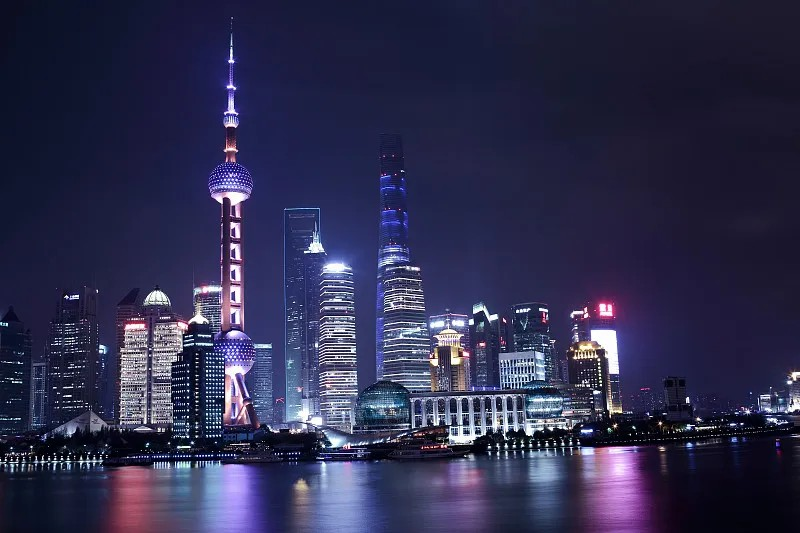Oriental: (208, 13, 261, 431)
